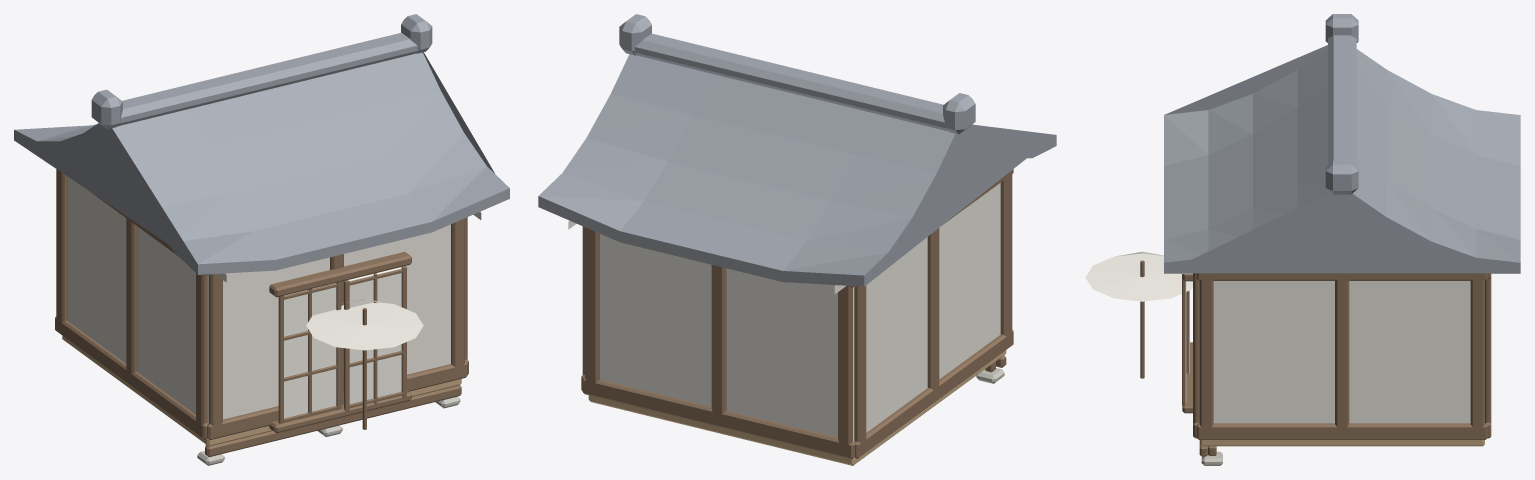
The model's file is umbrella-maker.glb.
3 renders of one model, left to right at view 1: azimuth 30°, elevation 25°; view 2: azimuth 150°, elevation 25°; view 3: azimuth 270°, elevation 25°, orthographic. The views are drawn at different scales.
Visible parts, largest first — view 1: umbrella-maker; view 2: umbrella-maker; view 3: umbrella-maker.
Boxes of the visible parts, x1=… form: umbrella-maker: x1=14, y1=14, x2=509, y2=465; umbrella-maker: x1=538, y1=14, x2=1056, y2=465; umbrella-maker: x1=1085, y1=14, x2=1520, y2=465.
Size of the model in its own units: 5.2 by 4.91 by 6.1.
